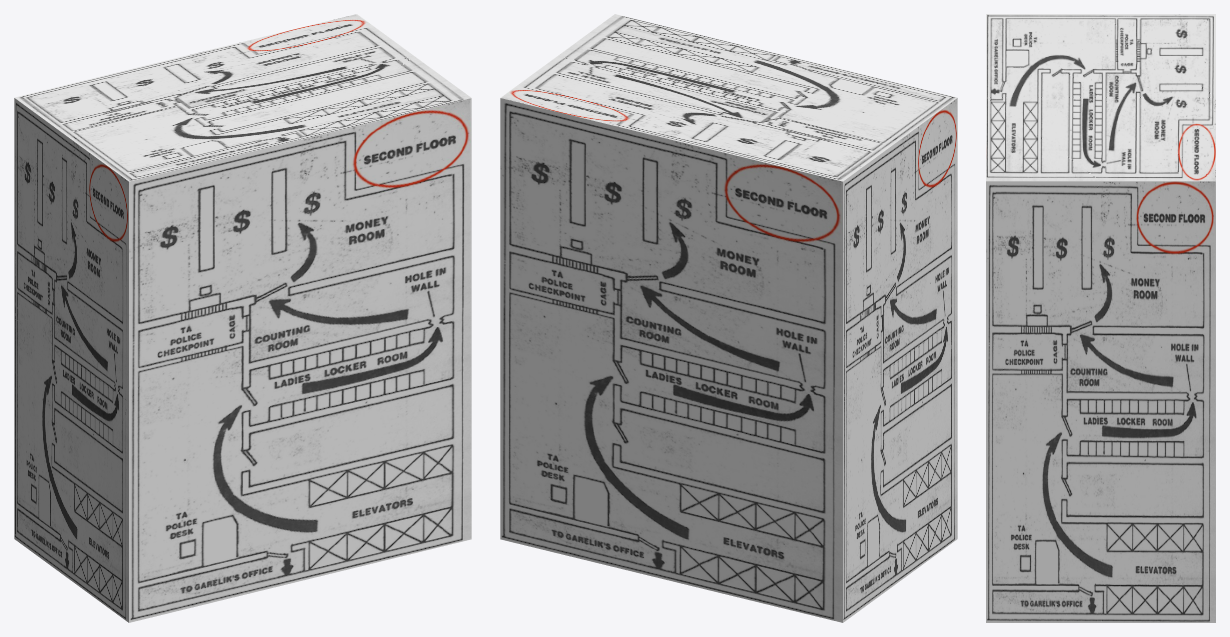
Rendered from 2ndfloormap.gltf.
3 renders of one model, left to right at view 1: azimuth 30°, elevation 25°; view 2: azimuth 150°, elevation 25°; view 3: azimuth 270°, elevation 25°, orthographic.
Visible parts, largest first — view 1: Box; view 2: Box; view 3: Box.
Boxes of the visible parts, left/top/right/bottom form: Box: left=14, top=14, right=471, bottom=622; Box: left=500, top=14, right=957, bottom=622; Box: left=986, top=14, right=1215, bottom=622.
Size of the model in its own units: 0.1724 by 0.2121 by 0.1.
1 material, 1 textured.
